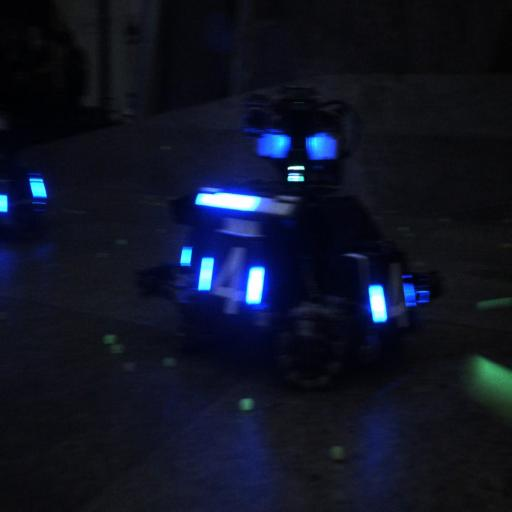target: (356, 245, 425, 343), (199, 239, 269, 326)
